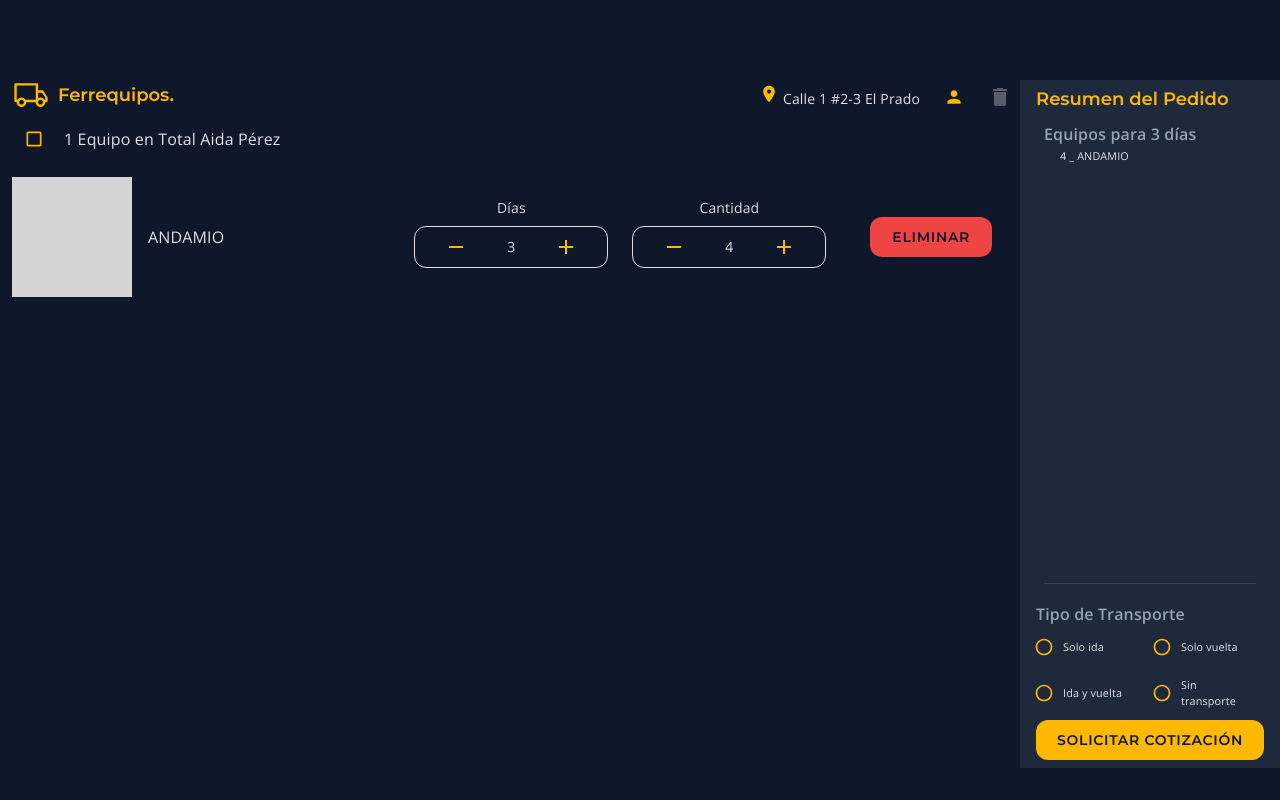
Scenario: KioskCart › si el servidor falla, lo dice
Click the button "Solicitar Cotización". click: (1150, 740)
box: [1036, 720, 1264, 760]
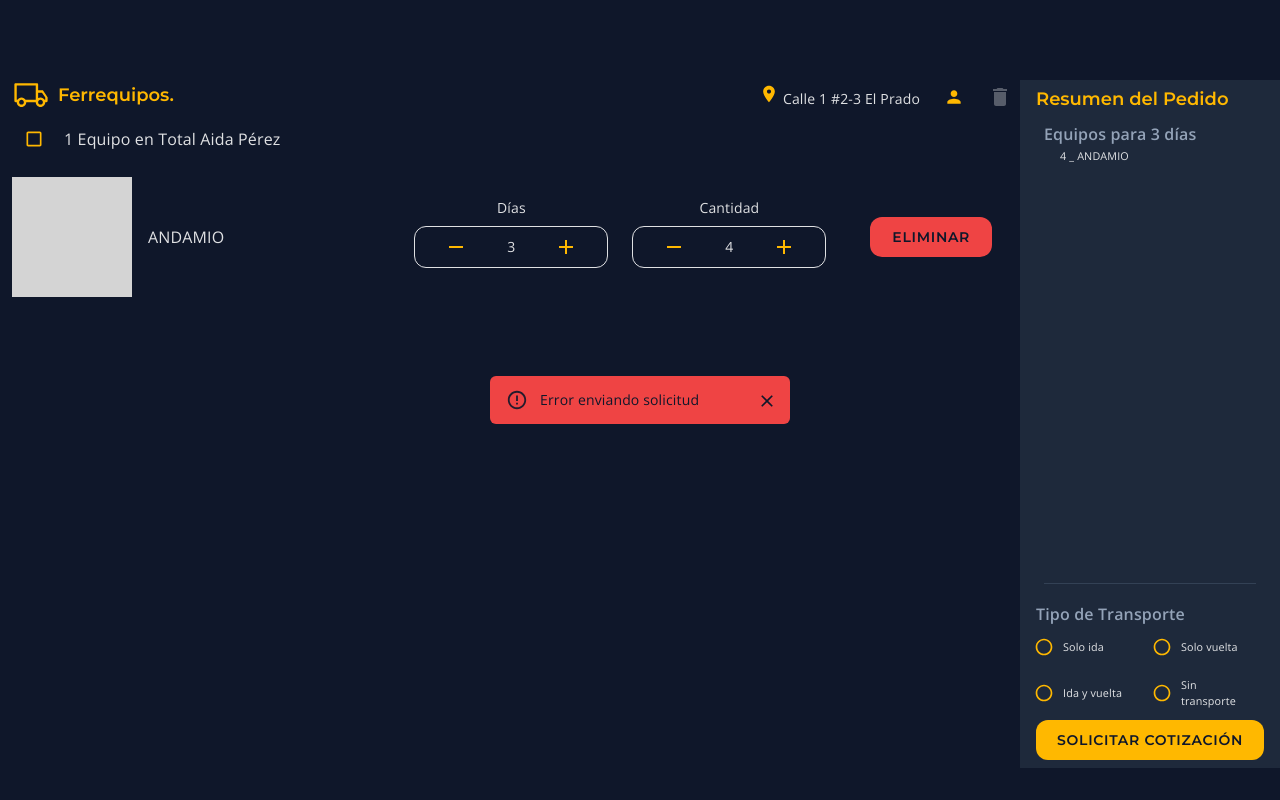
Check: the text "Error enviando solicitud" is shown, box [540, 390, 699, 409]
